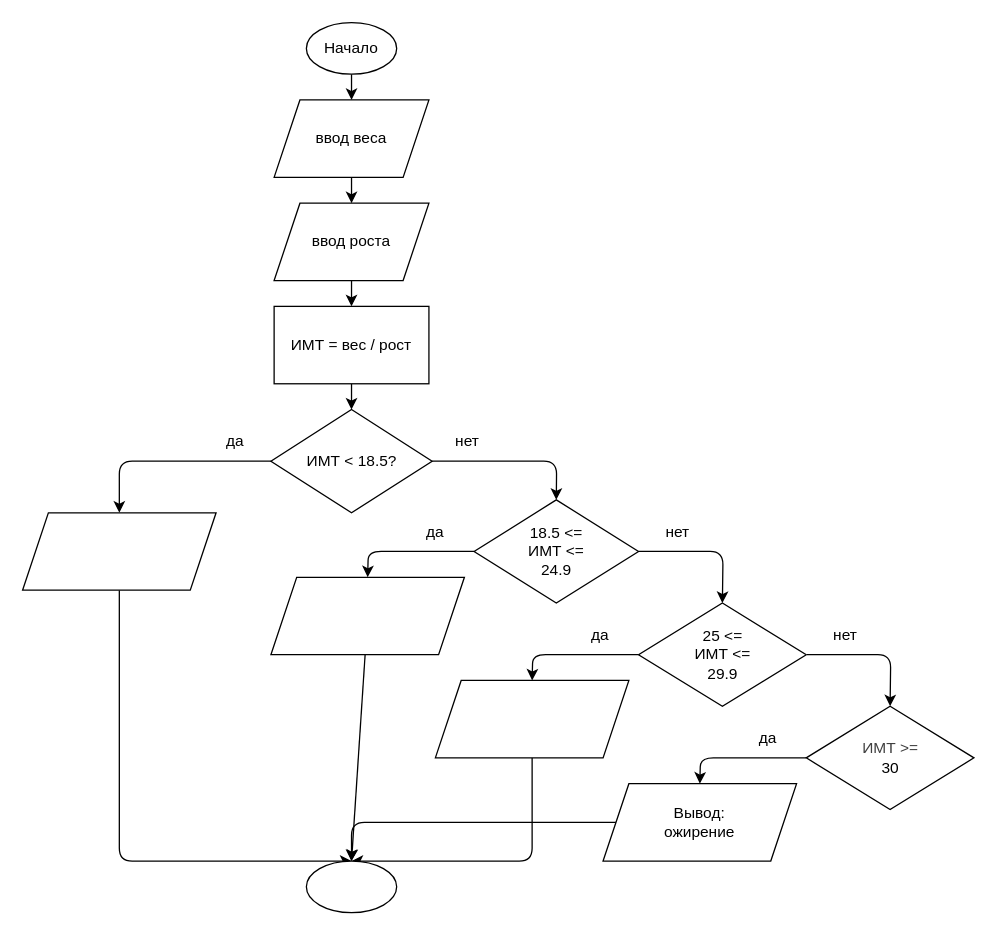
Some shapes in this 997 by 935 pixel diagram are drawn without their labels. Here are the shapes that lost their labels. From the top down, the box of each, then its label:
(21, 511, 216, 590): Вывод: недостаточный вес
(270, 576, 464, 655): Вывод: нормальный вес
(434, 679, 629, 758): Вывод: избыточный вес
(305, 860, 397, 913): Конец
